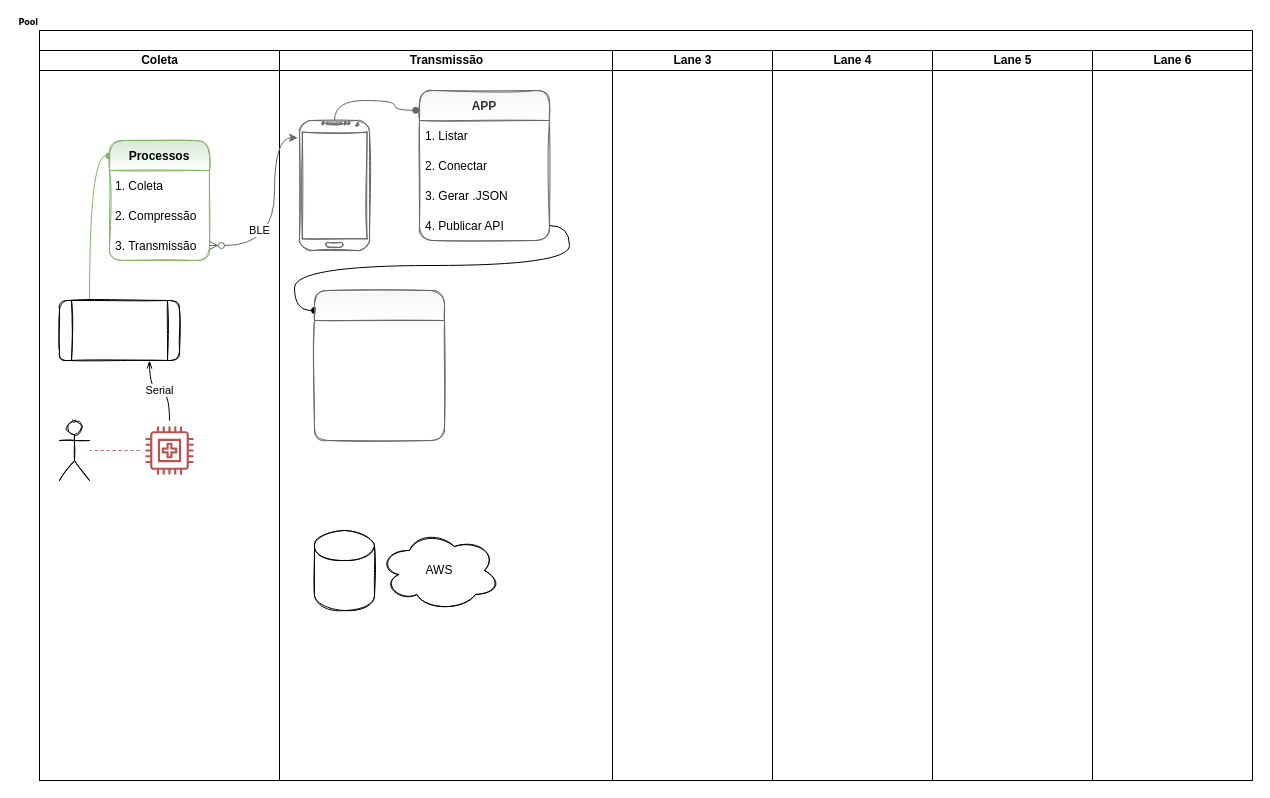
The diagram is 1270 pixels wide and 798 high, and some of its shapes have lost their labels. The shapes that lost their labels are listed below. From the top down, each one's centre as x and y in pixels, then its label:
At (119,330): "ESP 32".
At (379,365): "API".
At (74,450): "Usuário".
At (169,450): "AD 8232".
At (344,570): "MongoDB".
